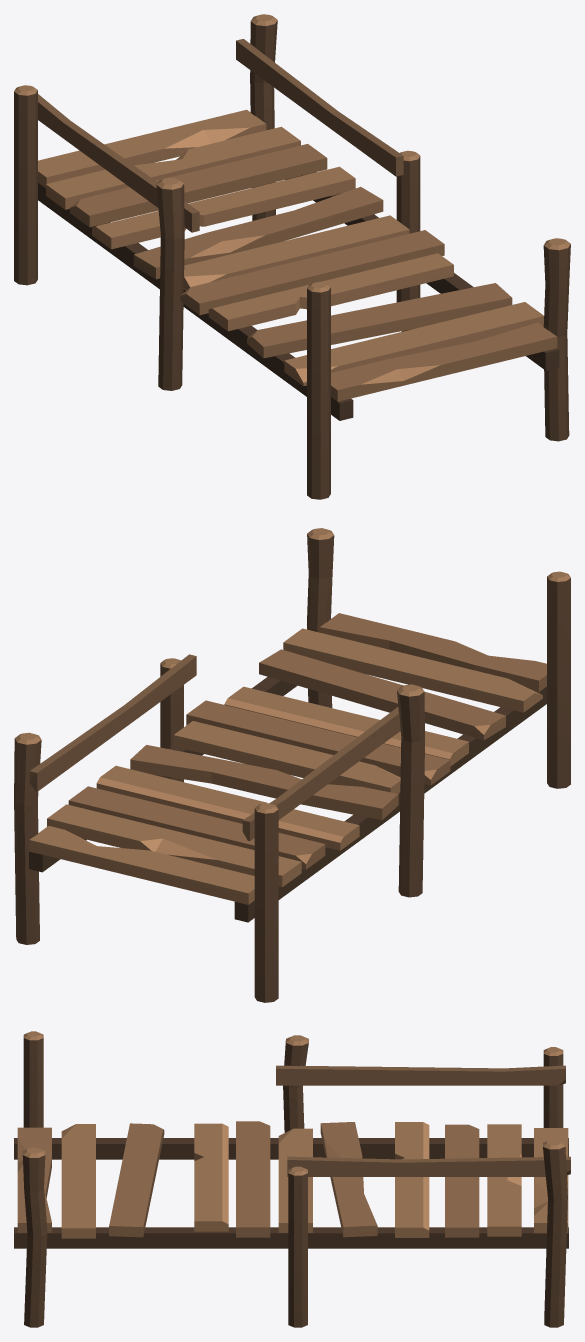
Rendered from wooden-pier-4.glb.
The picture shows the model from 3 angles, top to bottom: view 1: azimuth 30°, elevation 25°; view 2: azimuth 150°, elevation 25°; view 3: azimuth 270°, elevation 25°; orthographic projection. The views are drawn at different scales.
Visible parts, largest first — view 1: wooden pier 4; view 2: wooden pier 4; view 3: wooden pier 4.
Boxes of the visible parts, x1,y1,x2,y2 form: wooden pier 4: (14,14,570,499); wooden pier 4: (14,528,570,1002); wooden pier 4: (14,1031,570,1327).
Bounding box in the file's own units: 3.67 × 2.82 × 7.65.
Materials: 1 (1 with a texture image).
